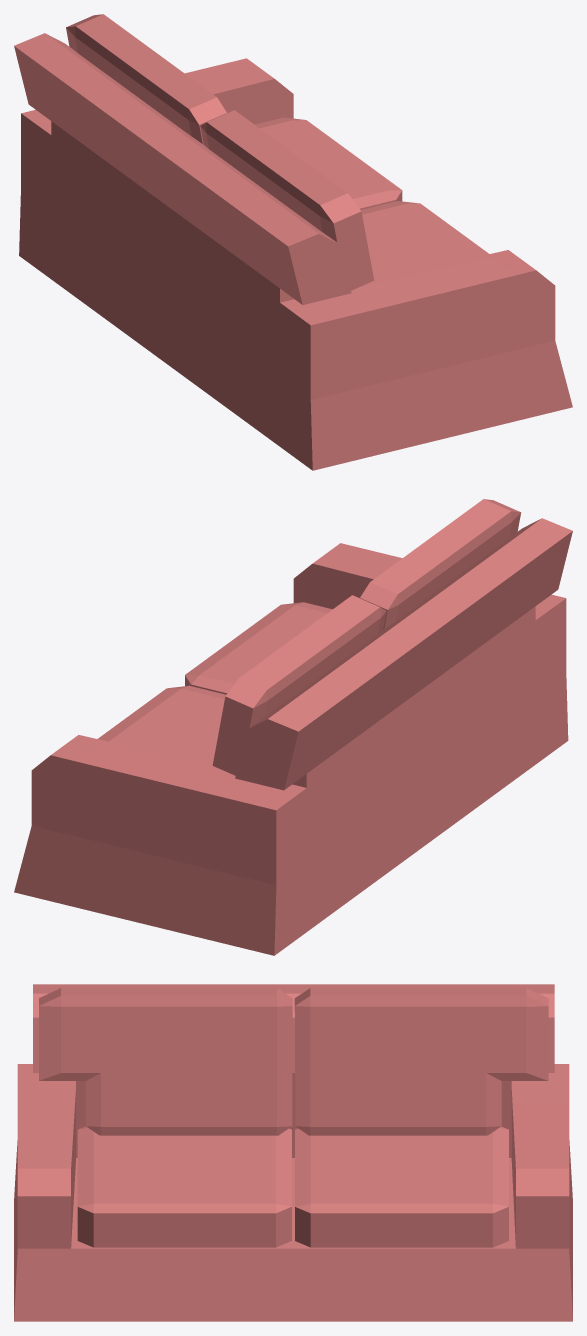
File: SofaDouble.glb
3 views of the same model, one above another, from view 1: azimuth 30°, elevation 25°; view 2: azimuth 150°, elevation 25°; view 3: azimuth 270°, elevation 25° (orthographic). The views are drawn at different scales.
Parts seen in each view (by area): view 1: SofaDouble_Cube.002; view 2: SofaDouble_Cube.002; view 3: SofaDouble_Cube.002.
Boxes of the visible parts, x1,y1,x2,y2 form: SofaDouble_Cube.002: (14,14,572,470); SofaDouble_Cube.002: (14,499,572,955); SofaDouble_Cube.002: (14,984,572,1321).
Bounding box in the file's own units: 0.7369 × 0.6276 × 1.36.
